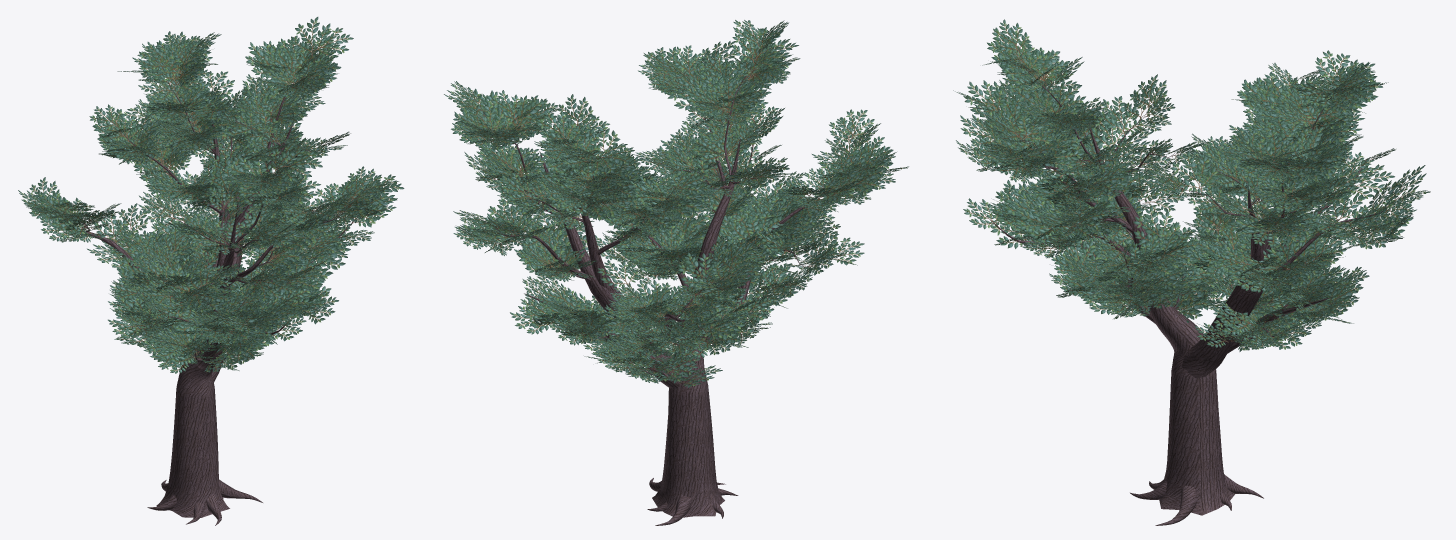
The model's file is corealm_magic_1.glb.
3 views of the same model, side by side, from view 1: azimuth 30°, elevation 25°; view 2: azimuth 150°, elevation 25°; view 3: azimuth 270°, elevation 25° (orthographic). The views are drawn at different scales.
Parts seen in each view (by area): view 1: corealm_magic_1; view 2: corealm_magic_1; view 3: corealm_magic_1.
Part boxes in pixels (x1,y1,x2,y2): corealm_magic_1: [18, 17, 404, 525]; corealm_magic_1: [444, 20, 908, 525]; corealm_magic_1: [953, 19, 1430, 525].
Bounding box in the file's own units: 10.56 × 12.39 × 11.76.
Materials: 2 (2 with a texture image).
